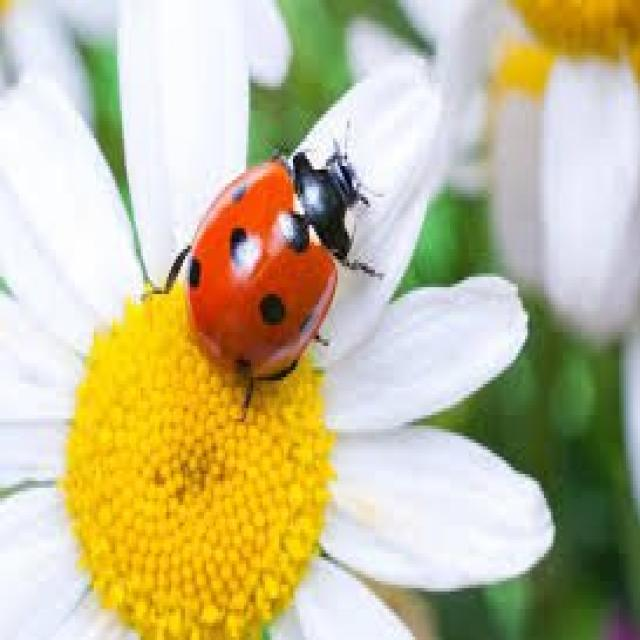ladybug: (164, 149, 377, 383)
